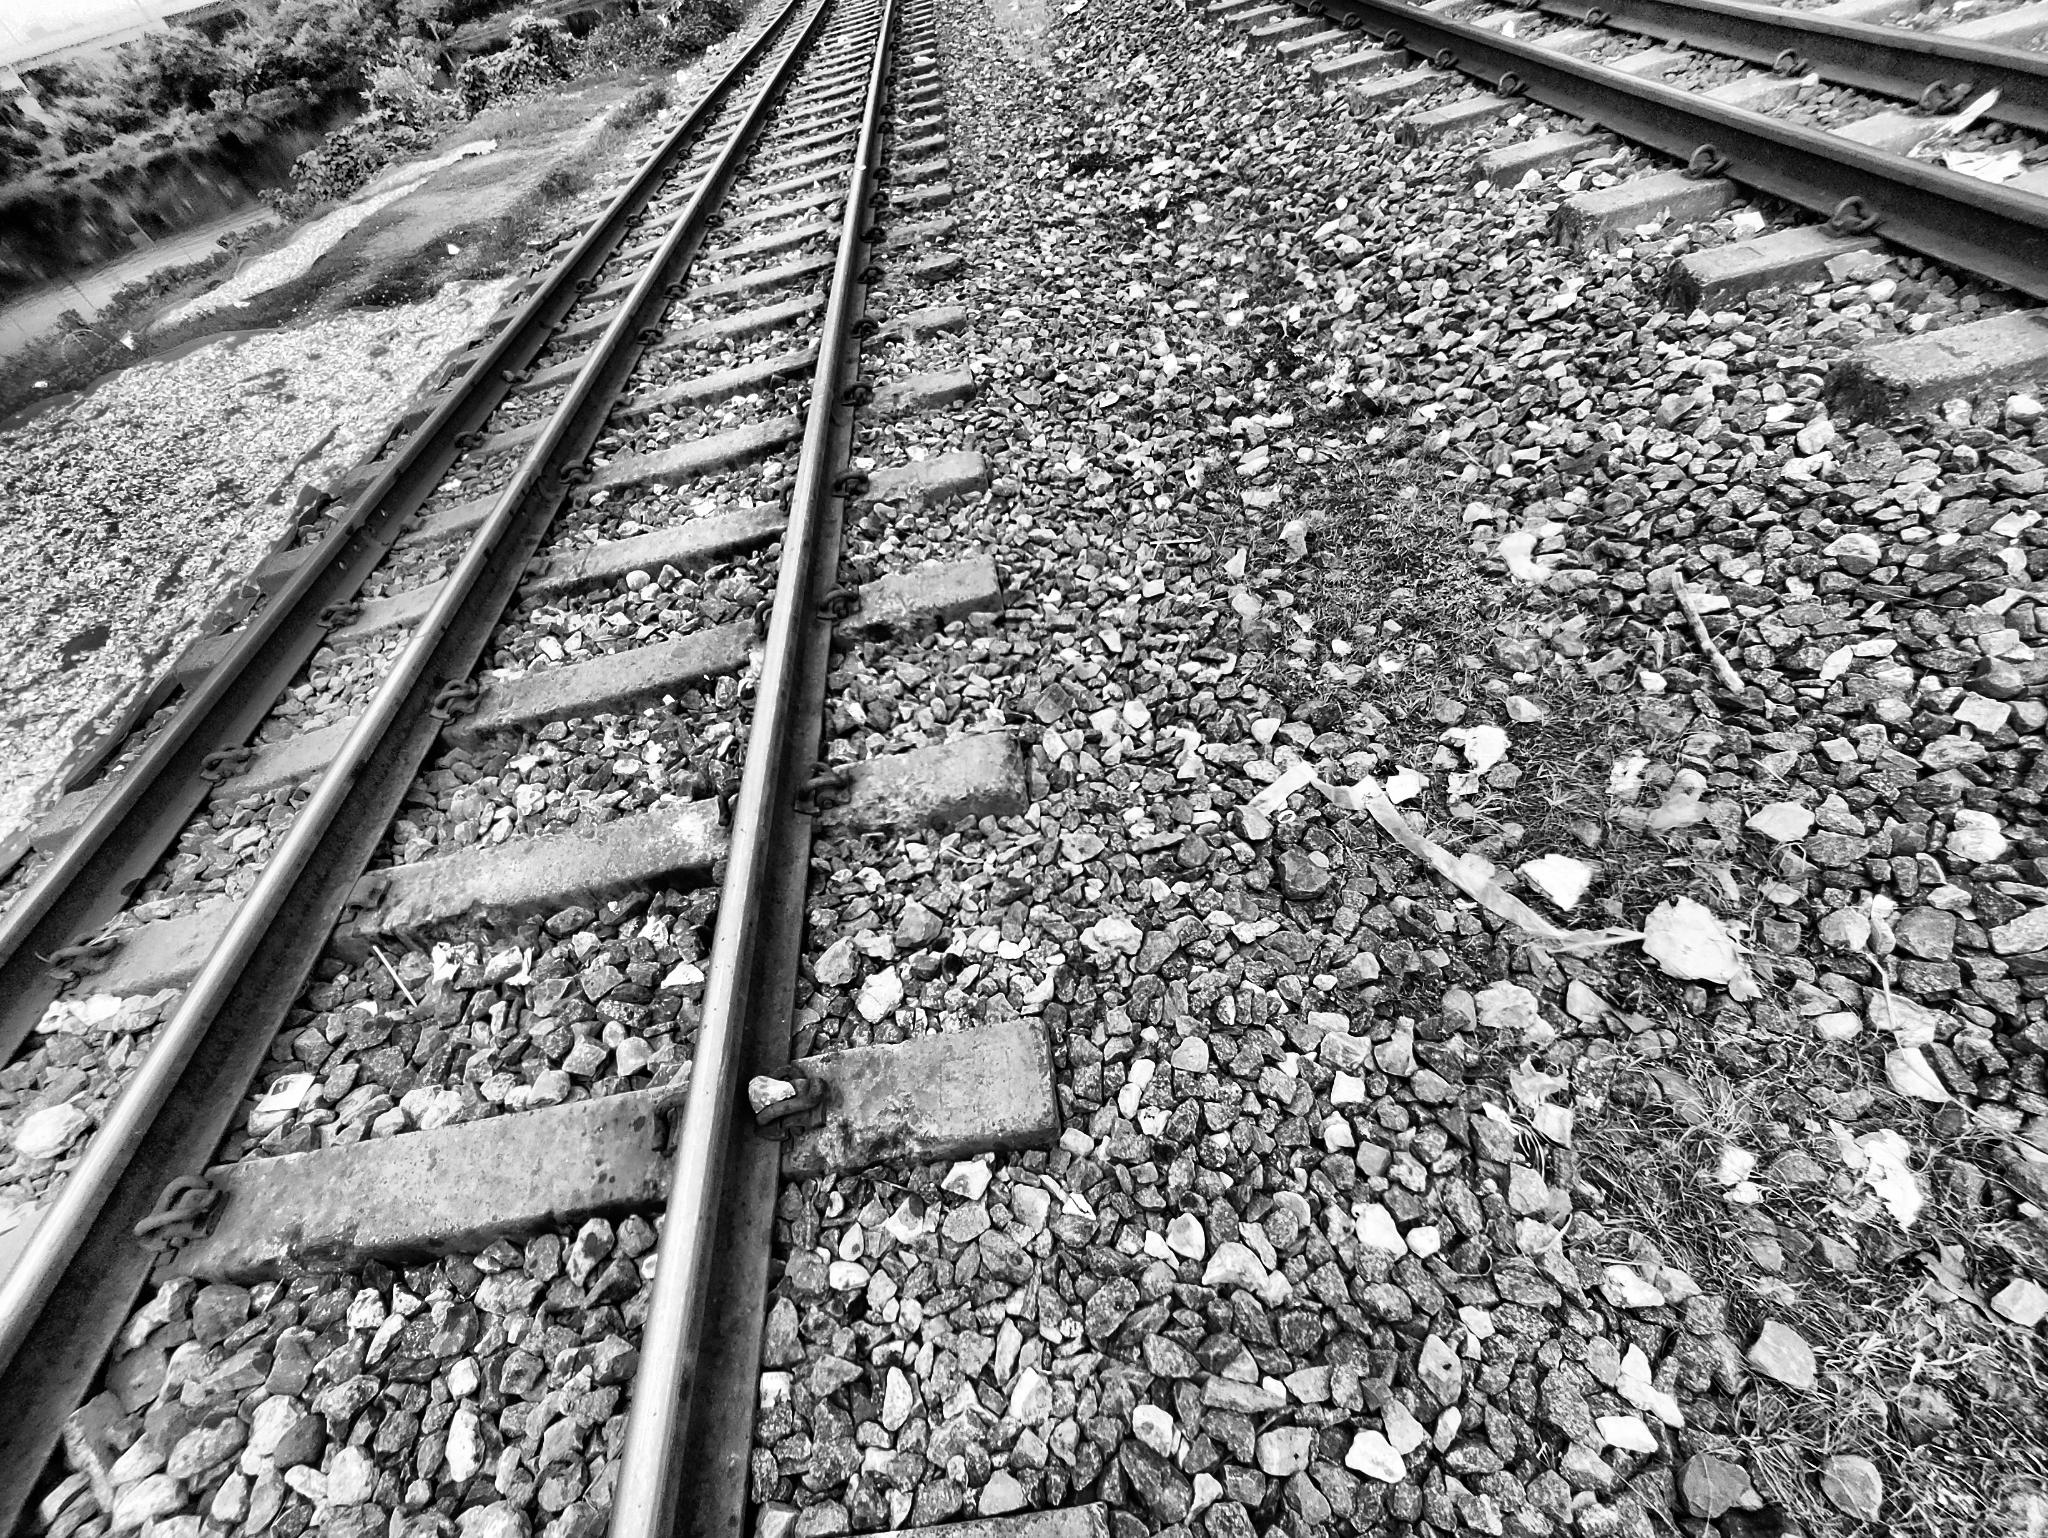Trash: (1219, 748, 1636, 982), (360, 934, 439, 1013), (531, 220, 580, 254)
